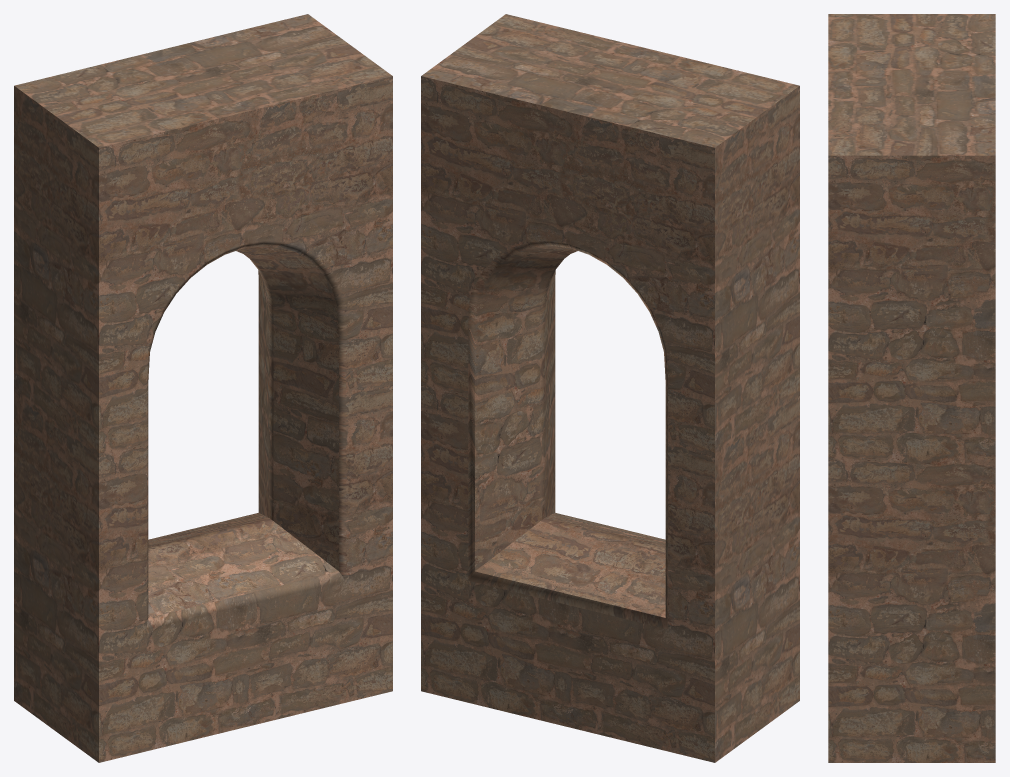
The model's file is WallSmall_BigWindow.fbx.
3 renders of one model, left to right at view 1: azimuth 30°, elevation 25°; view 2: azimuth 150°, elevation 25°; view 3: azimuth 270°, elevation 25°, orthographic.
Parts seen in each view (by area): view 1: WallSmall_BigWindow_LOD0; view 2: WallSmall_BigWindow_LOD0; view 3: WallSmall_BigWindow_LOD0.
Boxes of the visible parts, x1,y1,x2,y2 form: WallSmall_BigWindow_LOD0: (14,14,392,762); WallSmall_BigWindow_LOD0: (421,14,799,762); WallSmall_BigWindow_LOD0: (828,14,995,762).
Size of what is drawn, in the model's own units: 200 by 400 by 100.
